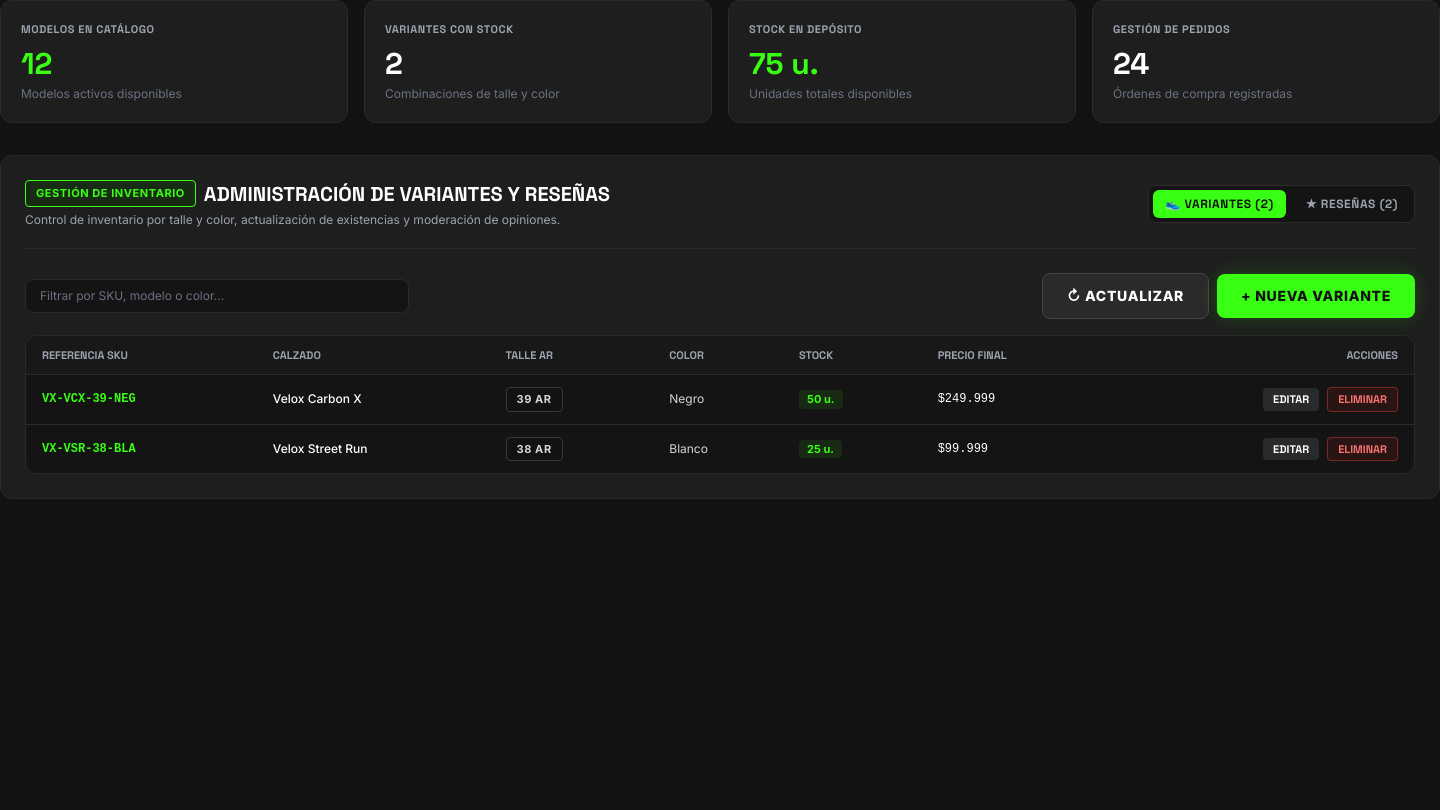
Test case: DashboardPage (/dashboard) - KPIs Reactivos de Inventario › actualiza el KPI de stock inmediatamente cuando se edita una variante
Expected: the text "75 u." is shown, [749,44,819,82]
// Abrir modal de edición para la primera variante
Step 1. Click the button "EDITAR" in the row of "VX-VCX-39-NEG" → (1291, 400), box [1263,388,1319,411]
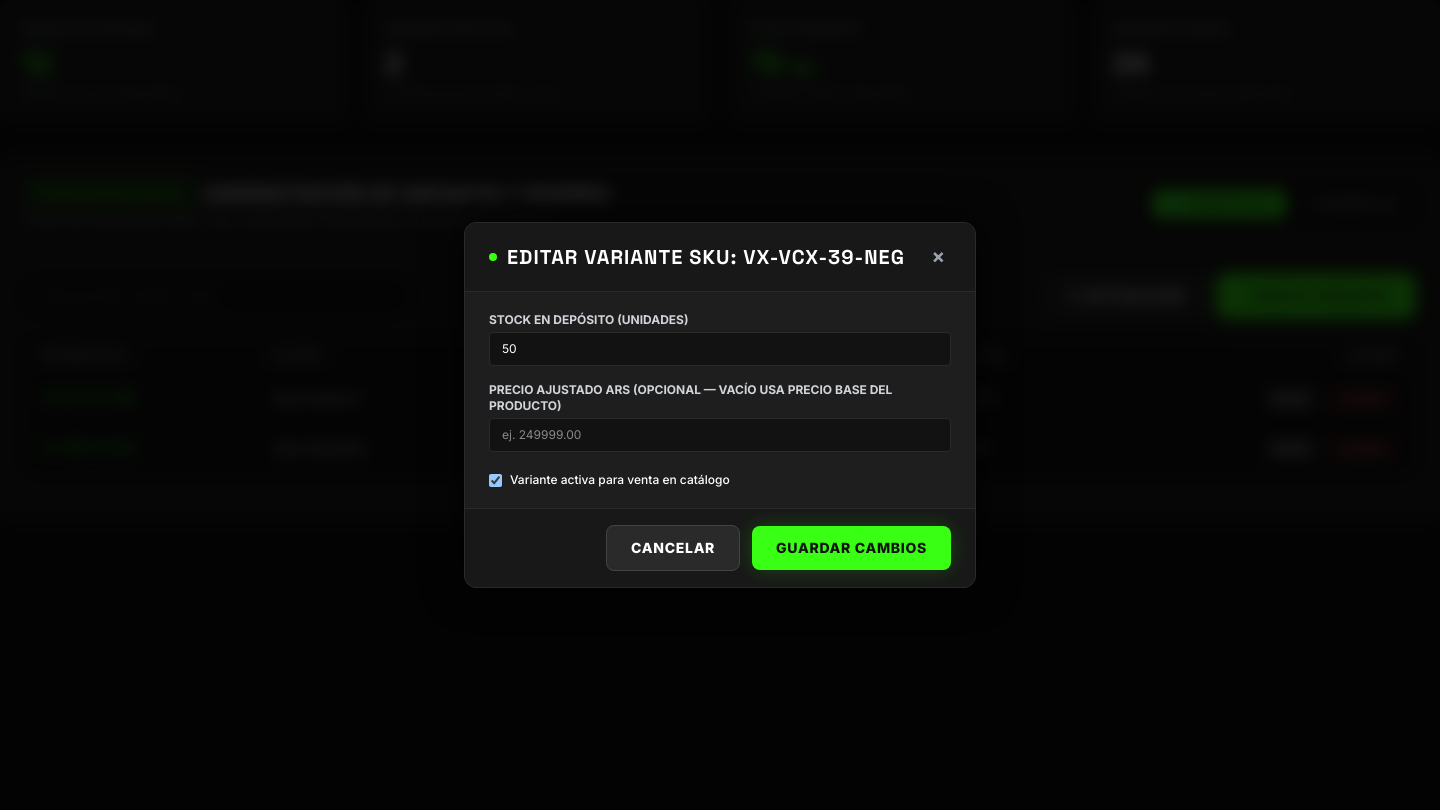
// Modificar stock a 100
Step 2. Replace the text in the number field labelled "Stock en Depósito (Unidades)" with "100" → (720, 349), box [489,332,951,366]
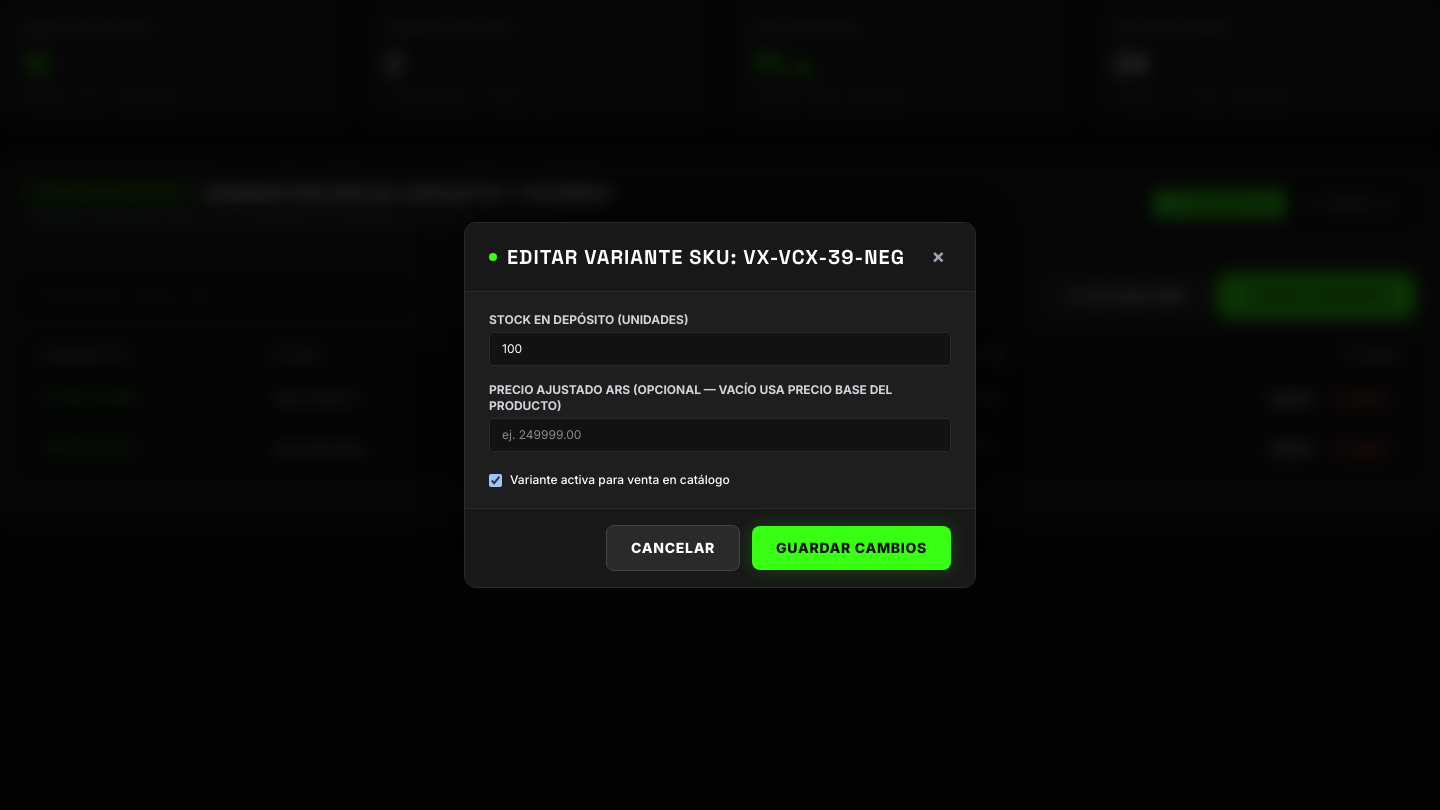
Step 3. Click the button "GUARDAR CAMBIOS" → (852, 548), box [752,526,951,570]
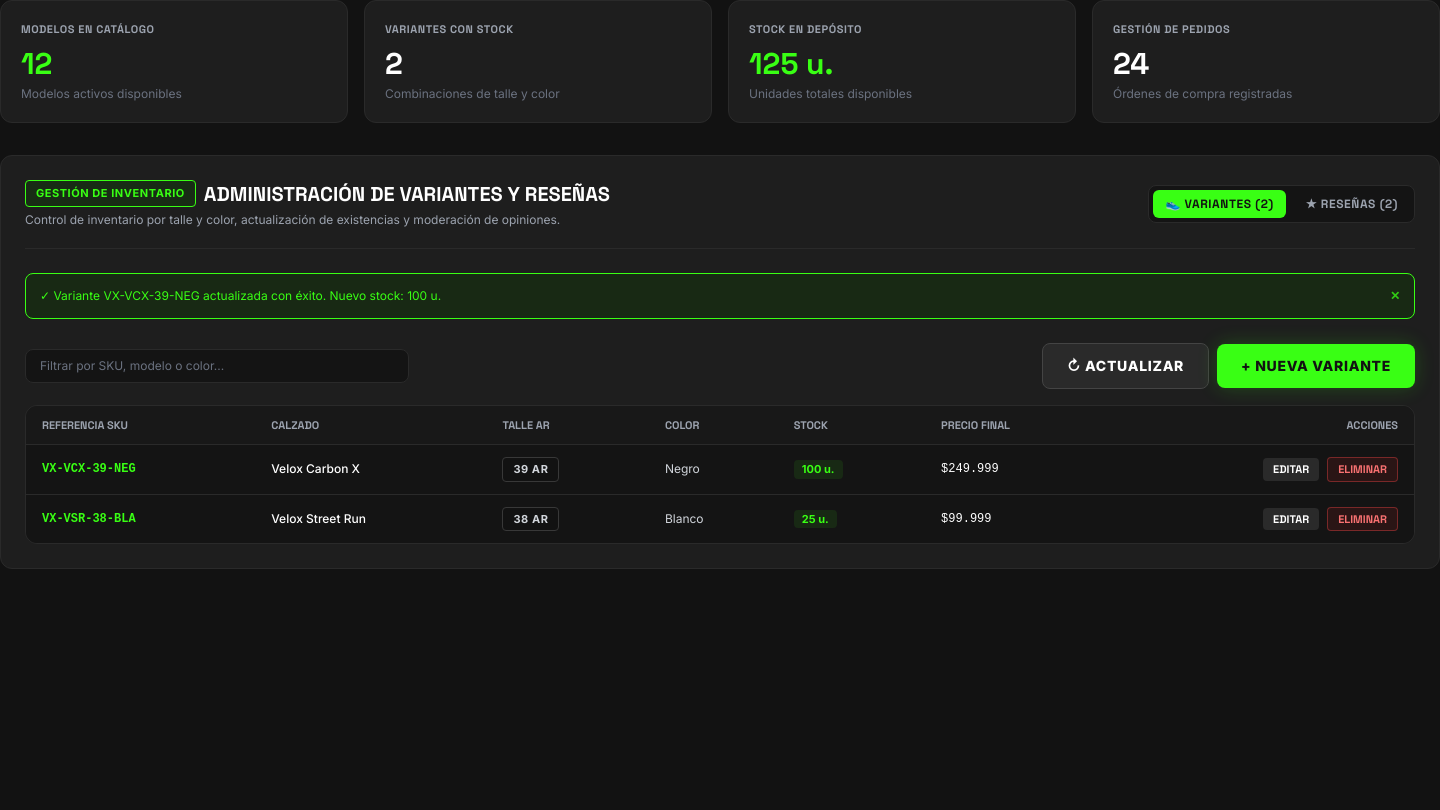
Expected: the text "125 u." is shown, [749,44,833,82]
